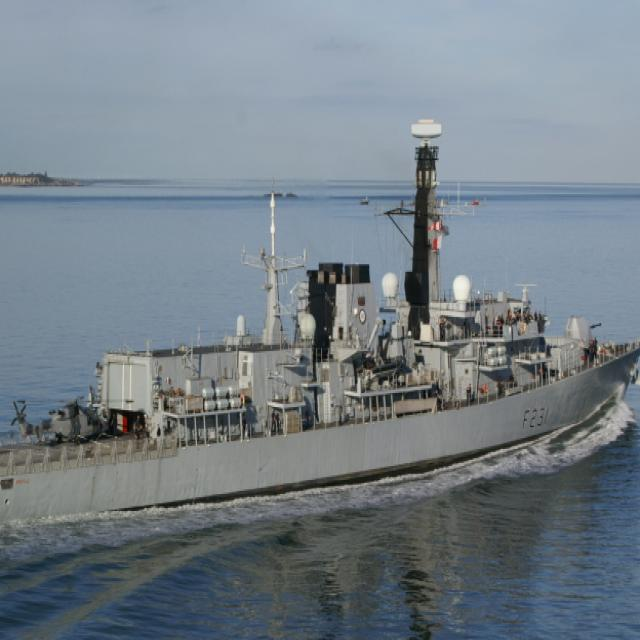Fragata: (1, 108, 640, 545)
